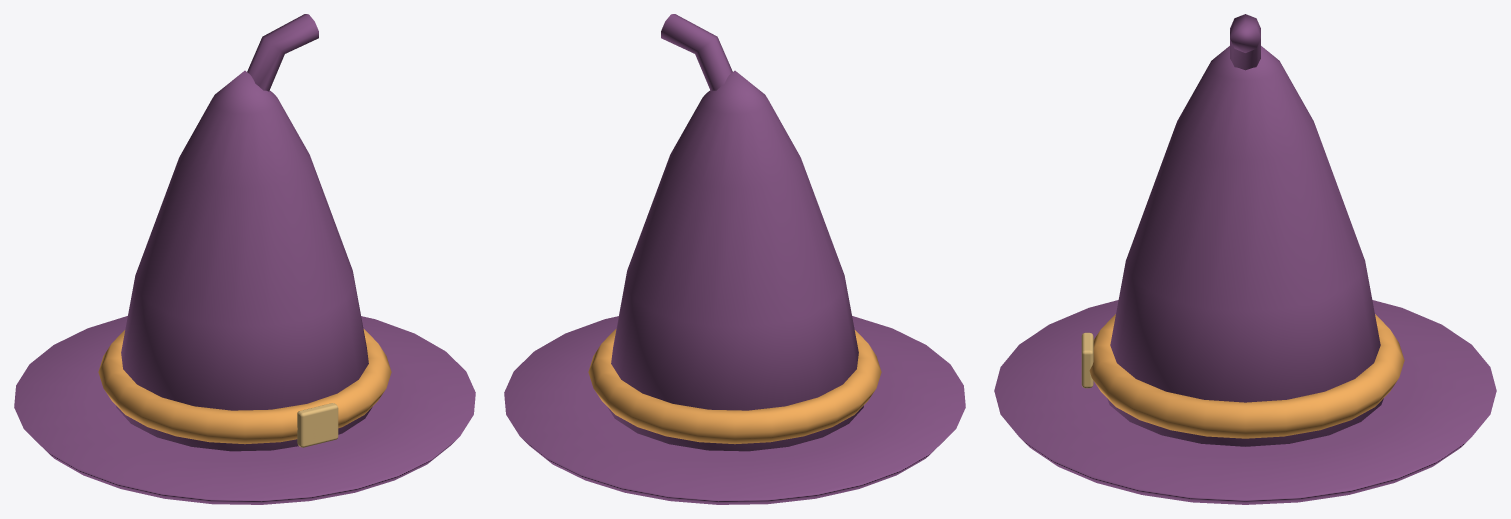
Rendered from Witch_Hat.fbx.
3 renders of one model, left to right at view 1: azimuth 30°, elevation 25°; view 2: azimuth 150°, elevation 25°; view 3: azimuth 270°, elevation 25°, orthographic. The views are drawn at different scales.
Parts seen in each view (by area): view 1: Witch_Hat_Mesh; view 2: Witch_Hat_Mesh; view 3: Witch_Hat_Mesh.
Boxes of the visible parts, bbox=[...] form: Witch_Hat_Mesh: bbox=[14, 14, 475, 504]; Witch_Hat_Mesh: bbox=[504, 14, 965, 504]; Witch_Hat_Mesh: bbox=[994, 14, 1496, 504].
Bounding box in the file's own units: 0.42 × 0.3826 × 0.42.
